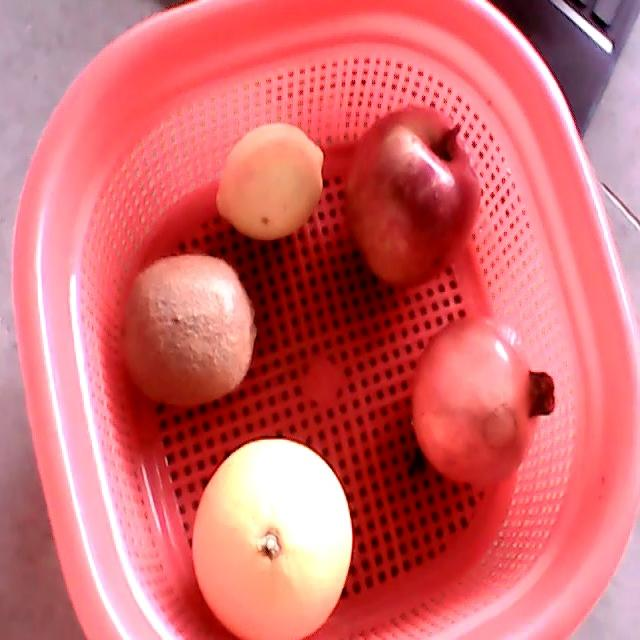kiwi: (119, 255, 256, 407)
lemon: (216, 123, 325, 241)
orange: (191, 439, 352, 639)
pomegranate: (343, 102, 483, 289), (411, 317, 555, 488)
